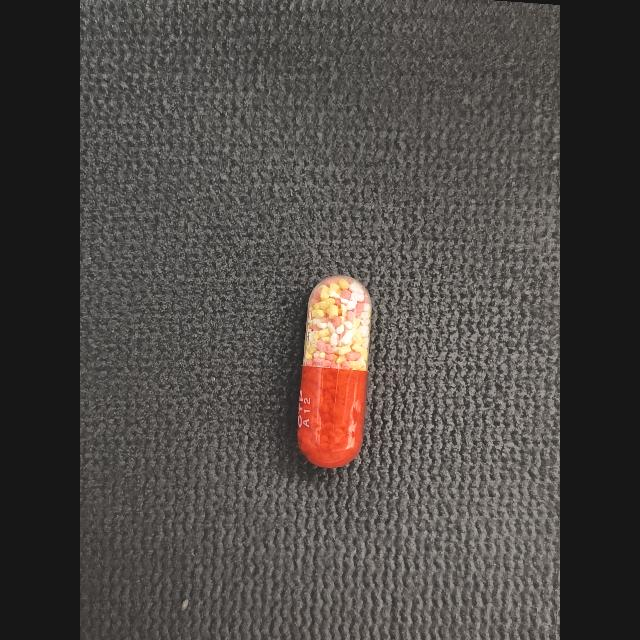Intact Capsule: (297, 276, 372, 468)
